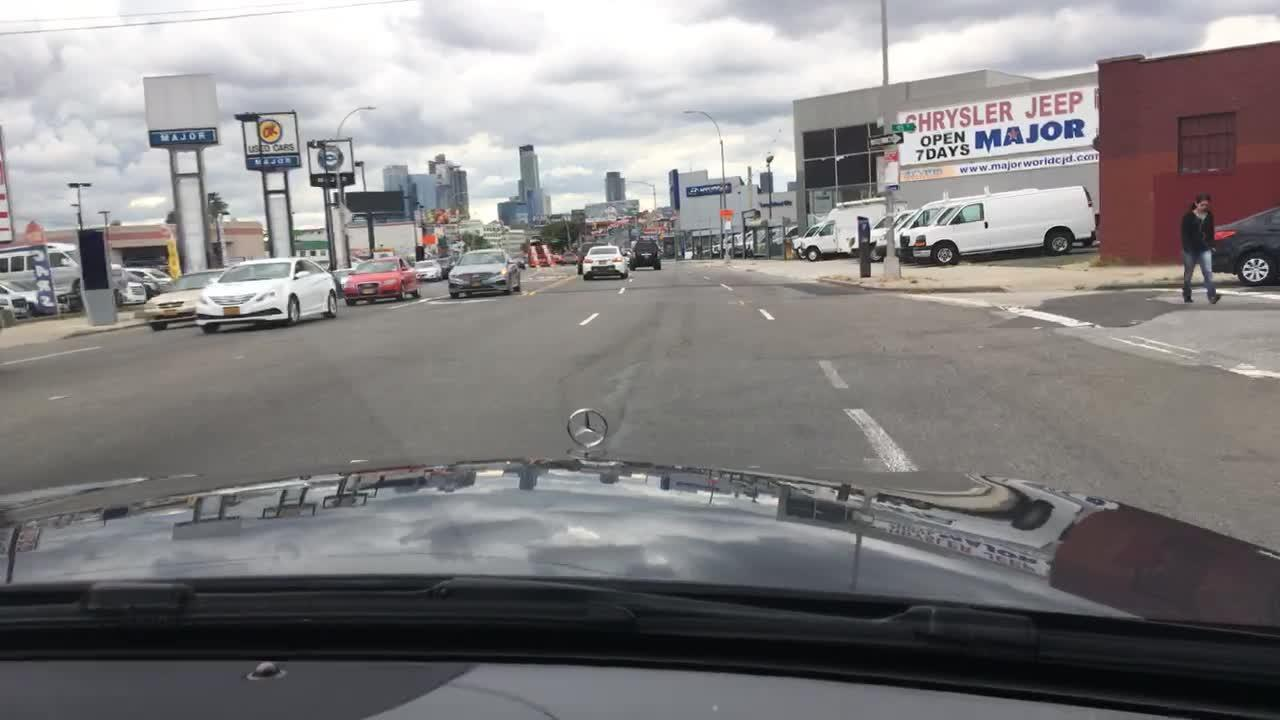Mercedes: (565, 405, 616, 450)
